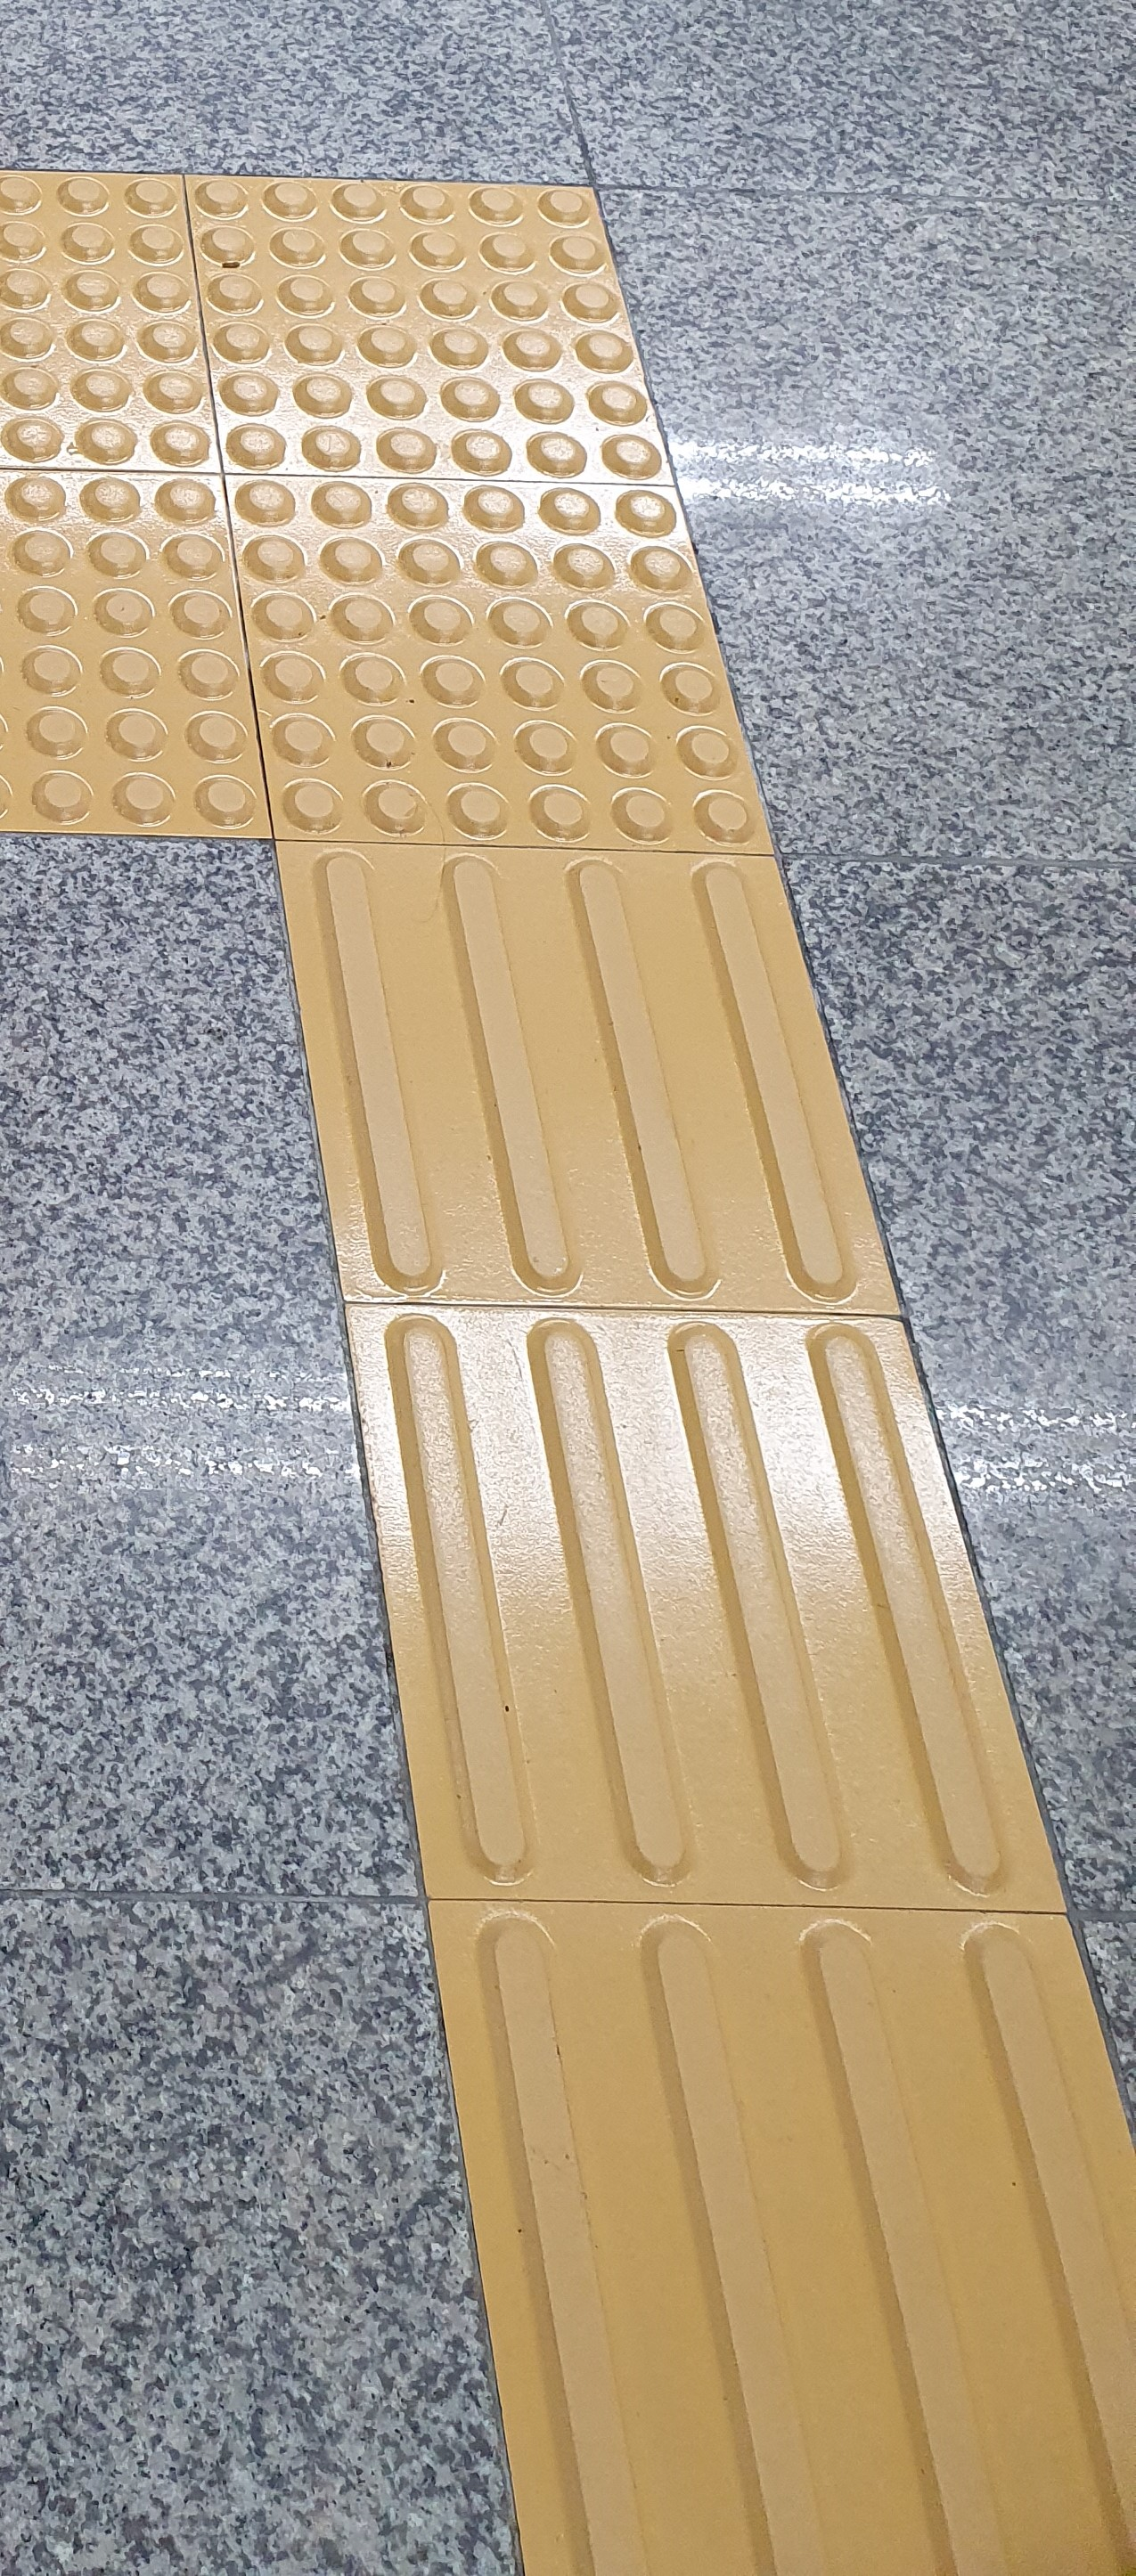guideBlock: (321, 1332, 1093, 1981), (423, 1939, 1136, 2499), (281, 826, 1001, 1324)
warningBlock: (214, 161, 704, 547), (256, 475, 735, 815), (49, 495, 237, 904), (21, 166, 230, 483)
